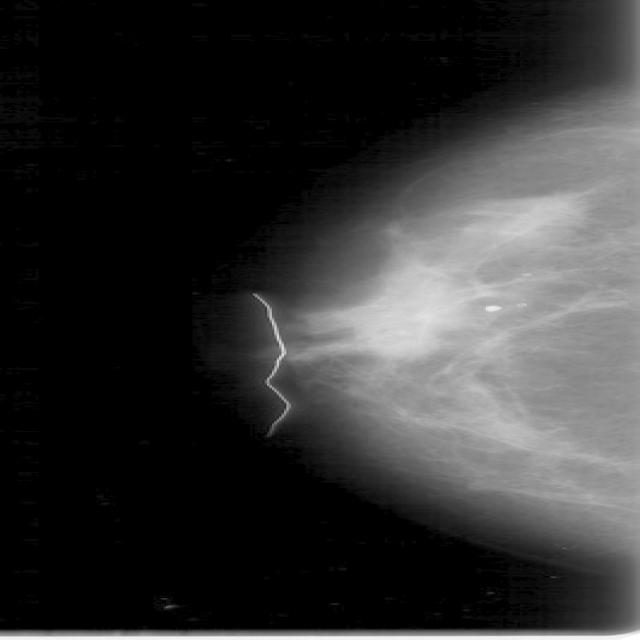tumour: (460, 192, 587, 242)
